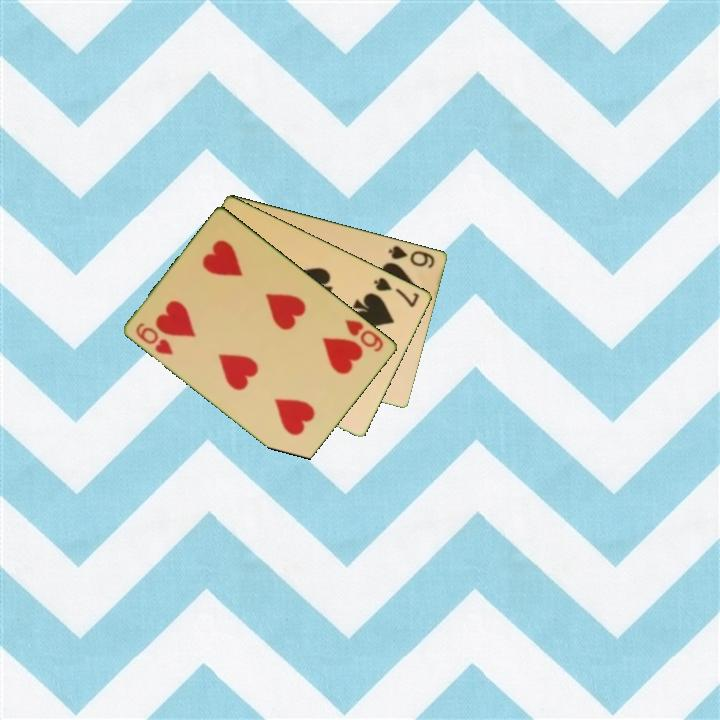6h: (341, 316, 387, 355), (132, 319, 177, 358)
6s: (385, 242, 438, 271)
7s: (370, 273, 423, 310)
